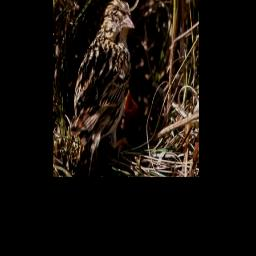Sparrow: (69, 0, 136, 176)
